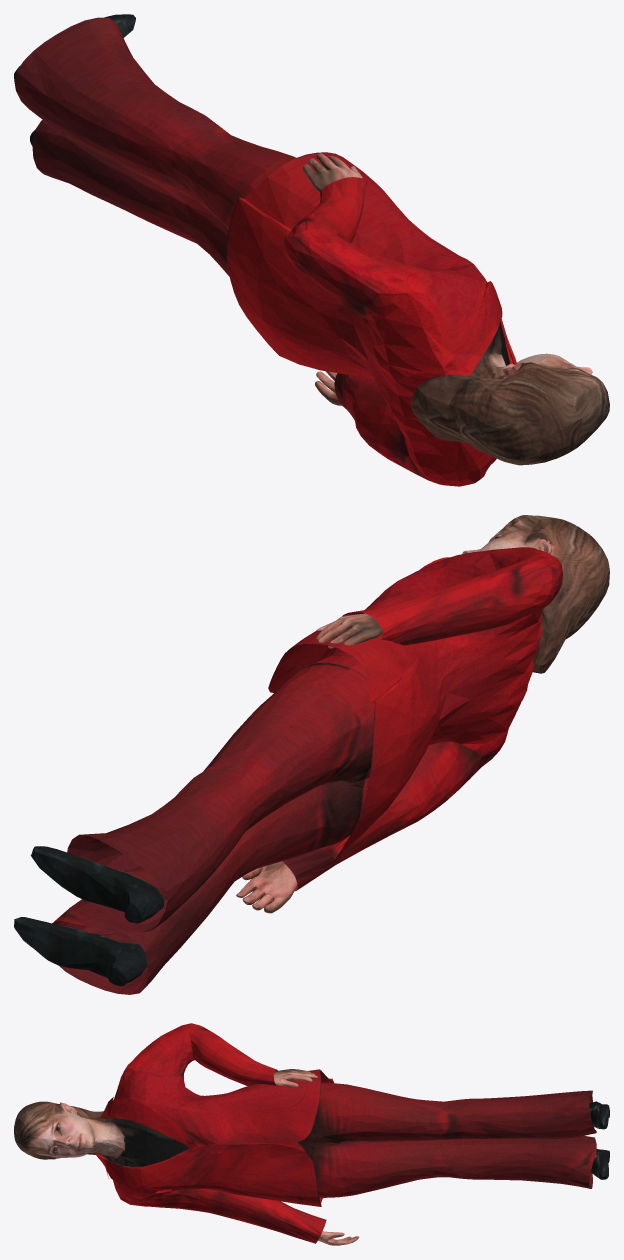
Rendered from woman_red_dress.dae.
3 renders of one model, top to bottom at view 1: azimuth 30°, elevation 25°; view 2: azimuth 150°, elevation 25°; view 3: azimuth 270°, elevation 25°, orthographic. The views are drawn at different scales.
Parts seen in each view (by area): view 1: node; view 2: node; view 3: node.
Part boxes in pixels (x1,y1,x2,y2): node: (14, 14, 609, 486); node: (14, 515, 609, 994); node: (14, 1023, 609, 1245).
Size of the model in its own units: 55.54 by 75.32 by 228.
1 material, 1 textured.
